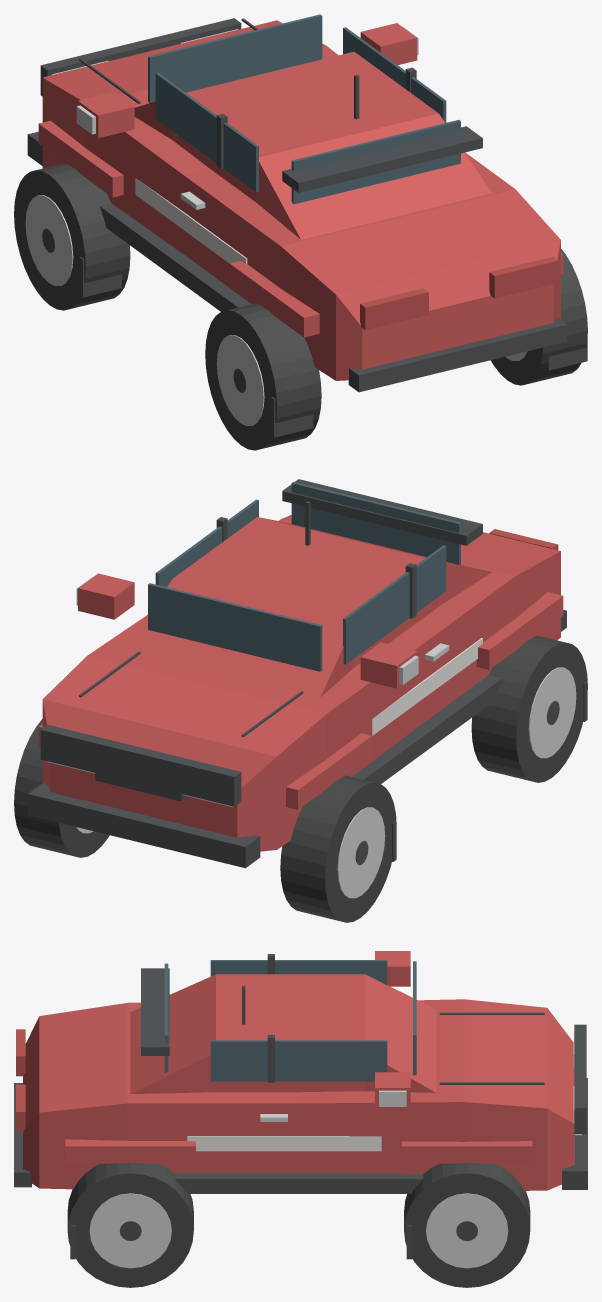
File: golf_rally.glb
3 views of the same model, one above another, from view 1: azimuth 30°, elevation 25°; view 2: azimuth 150°, elevation 25°; view 3: azimuth 270°, elevation 25° (orthographic). The views are drawn at different scales.
Parts seen in each view (by area): view 1: Sculpted lower monocoque, Sloped cabin shell, Tire -1 1, Tire -1 0, Windshield, Rear diffuser, Side glass -1, Golf rear roof spoiler, Wide sill -1, Rear window, Tire 1 1, Alloy wheel -1 0 (+13 smaller); view 2: Sculpted lower monocoque, Sloped cabin shell, Tire -1 0, Tire -1 1, Windshield, Golf black front fascia, Front air dam, Rear window, Side glass -1, Wide sill -1, Tire 1 0, Golf rear roof spoiler (+9 smaller); view 3: Sculpted lower monocoque, Sloped cabin shell, Tire 1 1, Tire 1 0, Side glass 1, Wide sill 1, Alloy wheel 1 1, Alloy wheel 1 0, Fender flare 1 1.23, White motorsport door stripe, Fender flare 1 -1.23, Side glass -1 (+11 smaller).
Part boxes in pixels (x1,y1,x2,y2): Sculpted lower monocoque: (42,20,560,380); Sloped cabin shell: (134,51,491,239); Tire -1 1: (205,303,321,450); Tire -1 0: (14,163,130,310); Windshield: (148,14,322,102); Rear diffuser: (348,317,566,392); Side glass -1: (155,73,258,192); Golf rear roof spoiler: (282,126,482,192); Wide sill -1: (99,203,251,311); Rear window: (291,120,460,204); Tire 1 1: (491,249,587,385); Alloy wheel -1 0: (25,195,73,285); Sculpted lower monocoque: (42,515,560,851); Sloped cabin shell: (125,517,491,697); Tire -1 0: (280,775,396,922); Tire -1 1: (471,635,587,782); Windshield: (148,583,322,671); Golf black front fascia: (40,724,241,806); Front air dam: (27,783,260,868); Rear window: (291,482,460,565); Side glass -1: (343,545,446,664); Wide sill -1: (352,675,502,783); Tire 1 0: (14,719,109,857); Golf rear roof spoiler: (282,479,482,545); Sculpted lower monocoque: (23,999,574,1190); Sloped cabin shell: (130,974,436,1094); Tire 1 1: (67,1162,193,1287); Tire 1 0: (404,1162,530,1287); Side glass 1: (210,1040,387,1081); Wide sill 1: (174,1173,423,1193); Alloy wheel 1 1: (89,1193,171,1268); Alloy wheel 1 0: (426,1193,508,1268); Fender flare 1 1.23: (65,1139,195,1163); White motorsport door stripe: (187,1136,381,1151); Fender flare 1 -1.23: (402,1141,532,1163); Side glass -1: (210,960,387,984).
Size of the model in its own units: 2.41 by 1.97 by 4.18.
